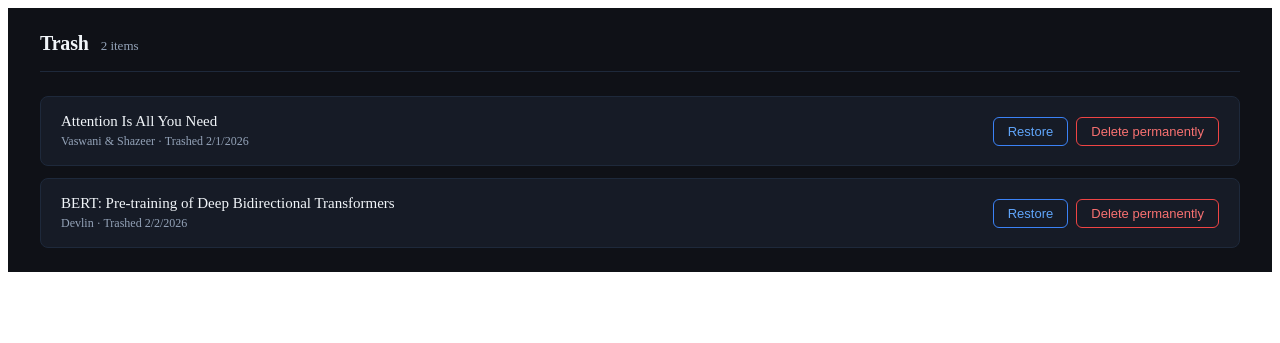
Test case: TrashView [L2-04] › displays actionable error banner if restore or purge fails
Click the button with aria-label "Restore Attention Is All You Need".
click(1030, 131)  # box [993,116,1068,146]
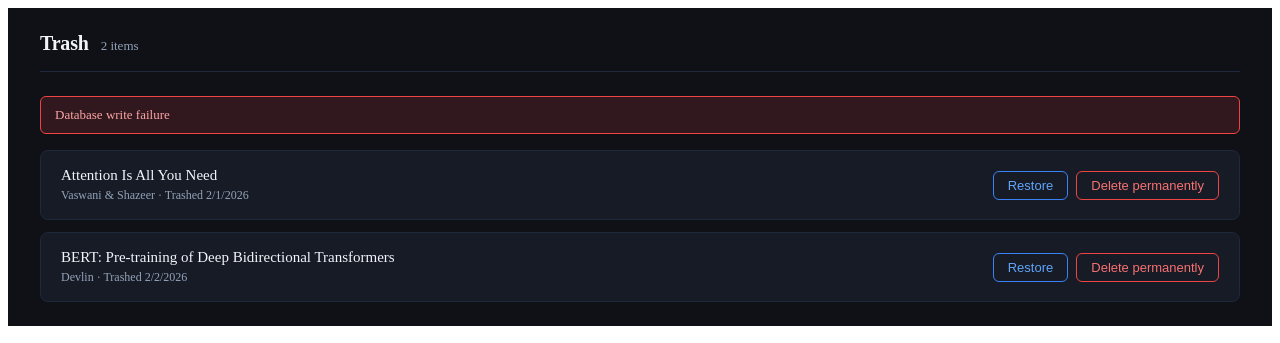
Result: the message reads "Database write failure" at [55,107,170,122]
